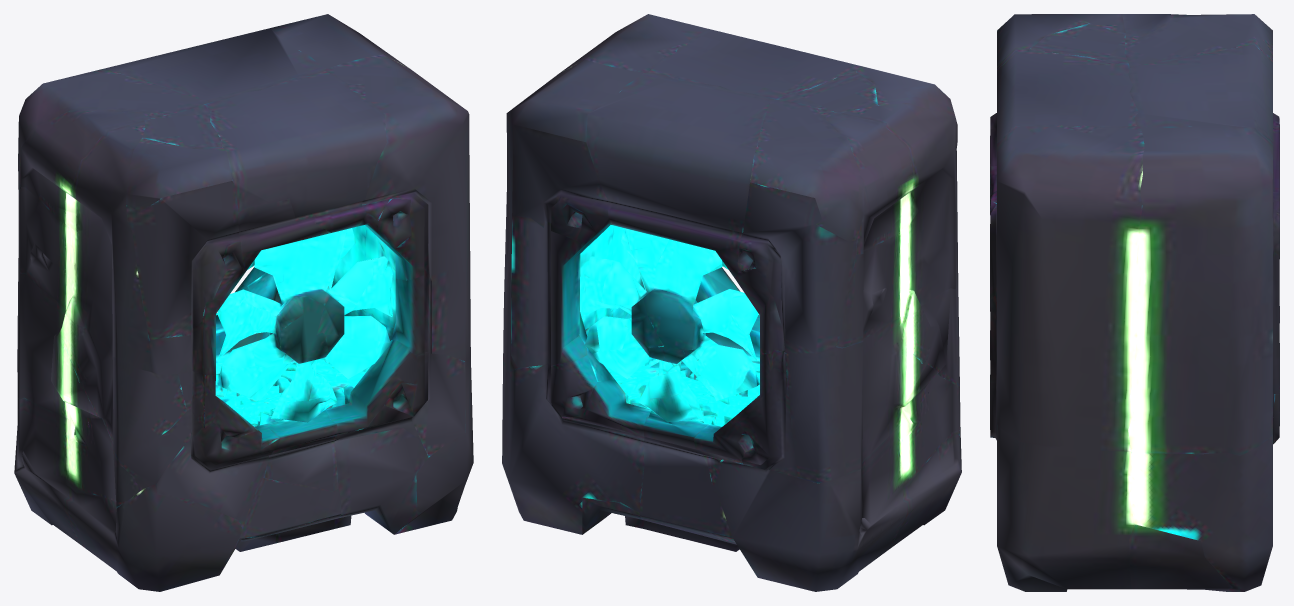
The model's file is tour-pc.glb.
3 views of the same model, side by side, from view 1: azimuth 30°, elevation 25°; view 2: azimuth 150°, elevation 25°; view 3: azimuth 270°, elevation 25° (orthographic). The views are drawn at different scales.
Visible parts, largest first — view 1: mesh_node; view 2: mesh_node; view 3: mesh_node.
Boxes of the visible parts, bbox=[...] form: mesh_node: bbox=[14, 14, 473, 591]; mesh_node: bbox=[502, 14, 961, 591]; mesh_node: bbox=[990, 14, 1279, 591].
Size of the model in its own units: 1.68 by 1.9 by 1.17.
1 material, 1 textured.
